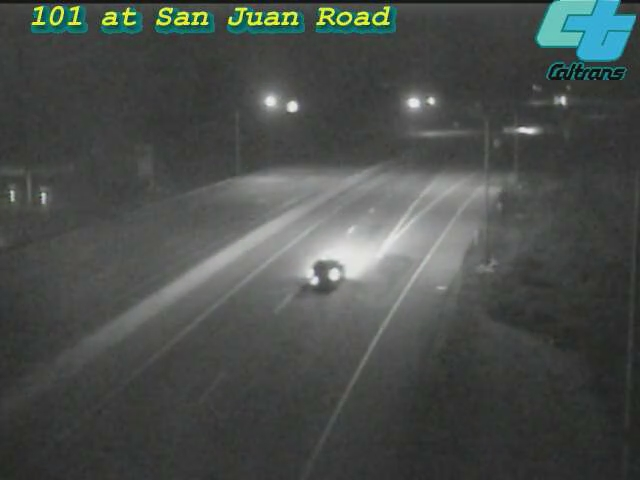vehicle: (284, 235, 364, 315), (501, 104, 551, 154)
